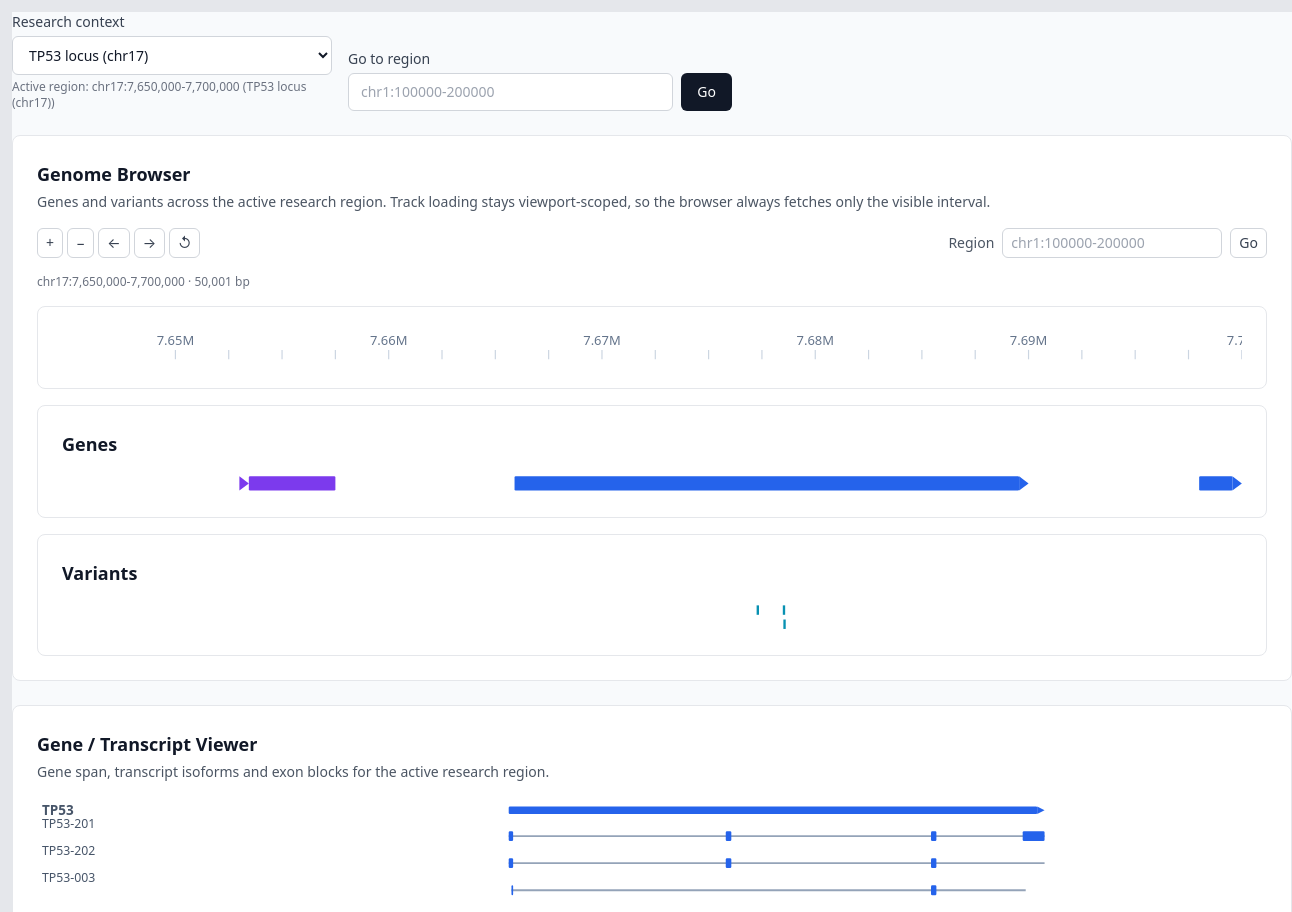
ResearchWorkspace › loads a custom region and drives the browser to it
This screenshot has width=1292, height=912.
Type "chr1:100-200" into the field labelled "Go to region".
click(511, 92); type("chr1:100-200")  # box [348, 73, 673, 111]
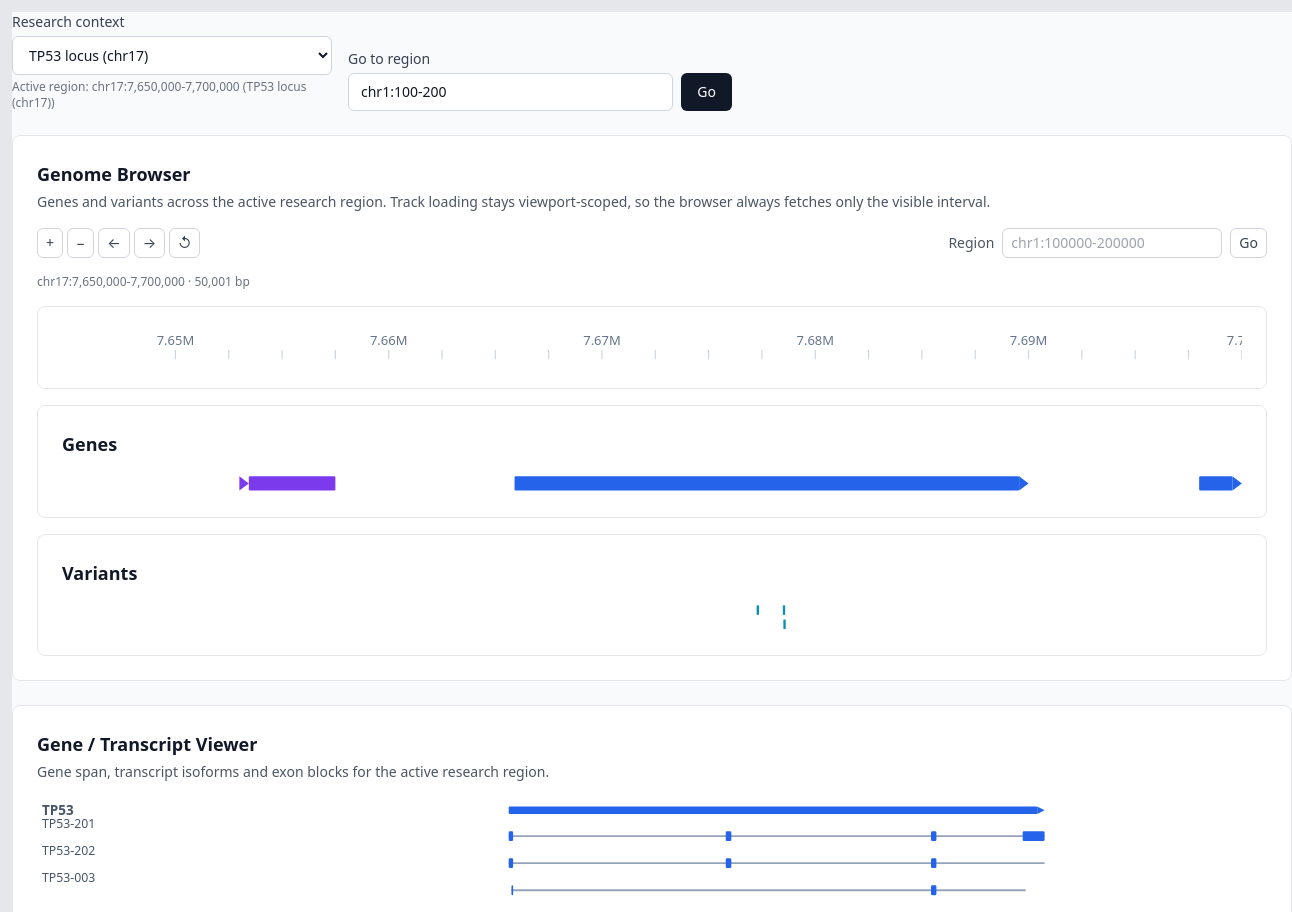
Click the button "Go" below "Go to region".
click(707, 92)  # box [681, 73, 732, 111]
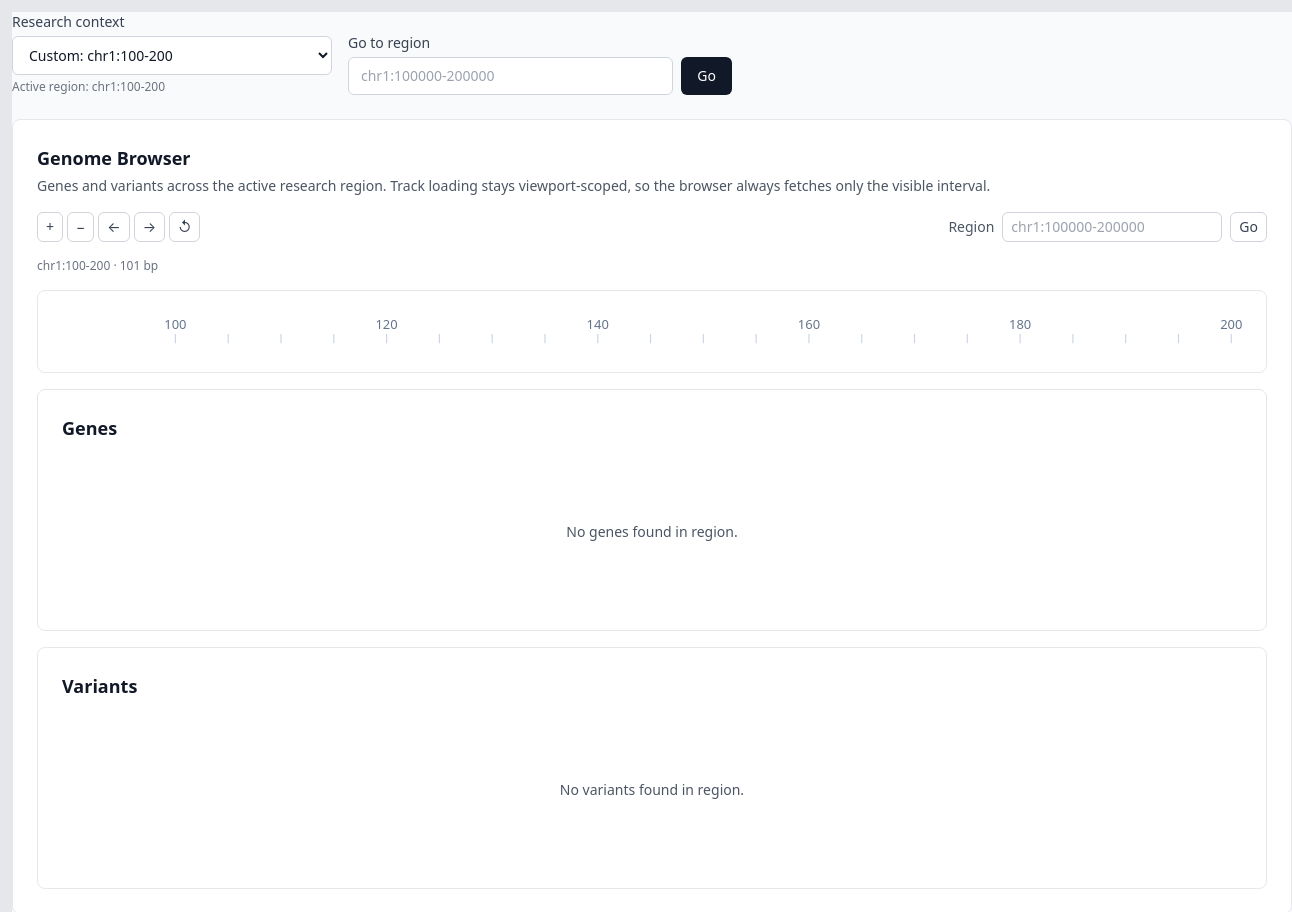
Check: the text with test id "active-context" shows "chr1:100-200", box [92, 78, 165, 95]
